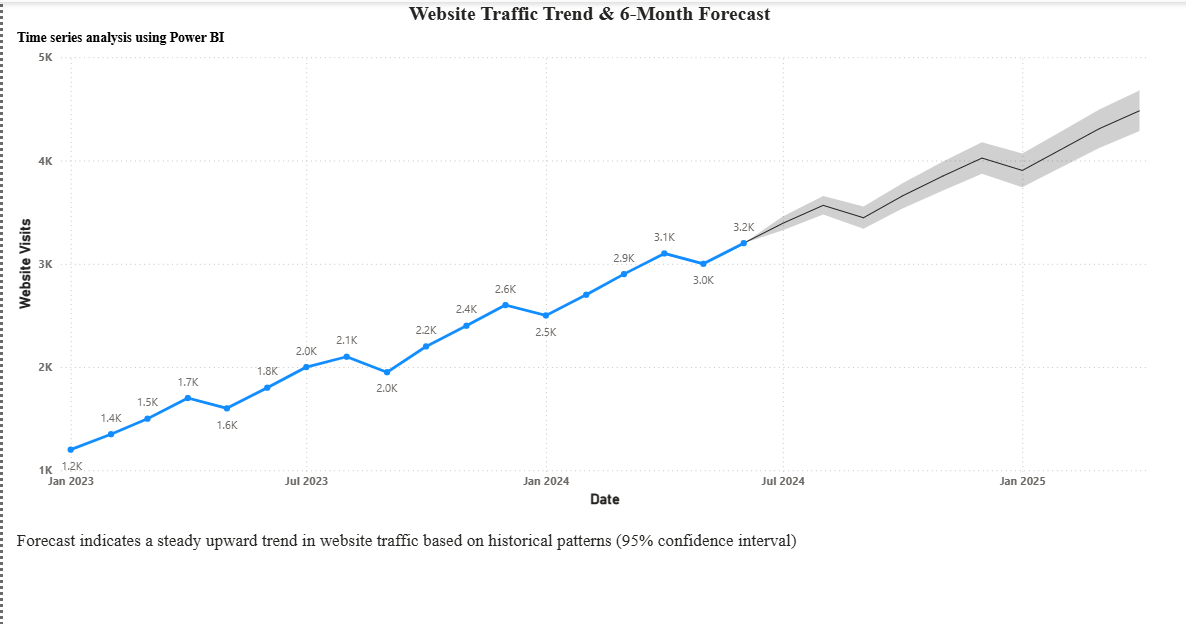

Layout of this report page (visuals, bound fields, positions):
{"tool":"powerbi","page":{"name":"Page 1","canvas":[1280,720],"ordinal":0},"visuals":[{"type":"lineChart","title":"Website Traffic Trend & 6-Month Forecast","fields":{"Category":["Web_Analytics_Data.Date"],"Y":["Sum(Web_Analytics_Data.Website_Visits)"]},"box":[9.7,0,1246.8,550.5],"z":0},{"type":"textbox","box":[9.7,565.1,1246.8,87.4],"z":1}]}

Visuals, with their boxes on the page's 1280x720 design canvas (x1, y1, x2, y2). These are canvas units, not pixel positions in the 1186x625 screenshot, which may show the page scaled, cropped or inside an application window:
"Website Traffic Trend & 6-Month Forecast" lineChart: left=10, top=0, right=1256, bottom=550
textbox: left=10, top=565, right=1256, bottom=652
